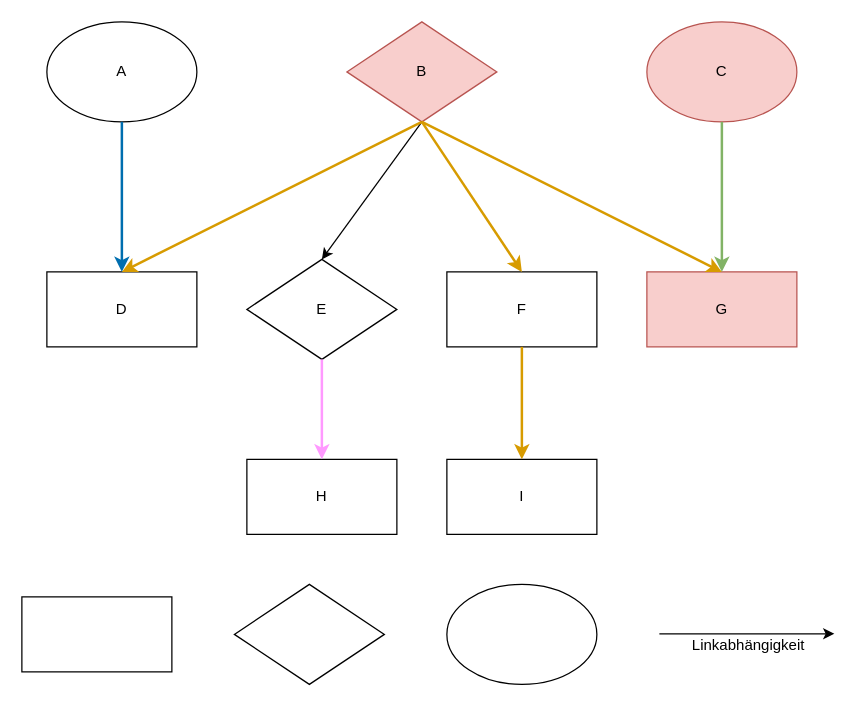
Image size: 866x706. Some labels were removed from this diagram. The shapes that lost their labels are listed below. From the top down, each one's box as (x1, y1, x2, y2) in pixels, then its label:
(21, 596, 172, 672): statische Biliothek
(233, 583, 384, 684): dynamische Bibliothek
(446, 583, 597, 684): ausführbare Datei
